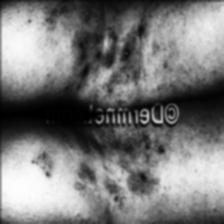Non-Cancerous Skin Condition: (71, 142, 164, 198), (72, 32, 116, 66), (124, 48, 130, 57)
